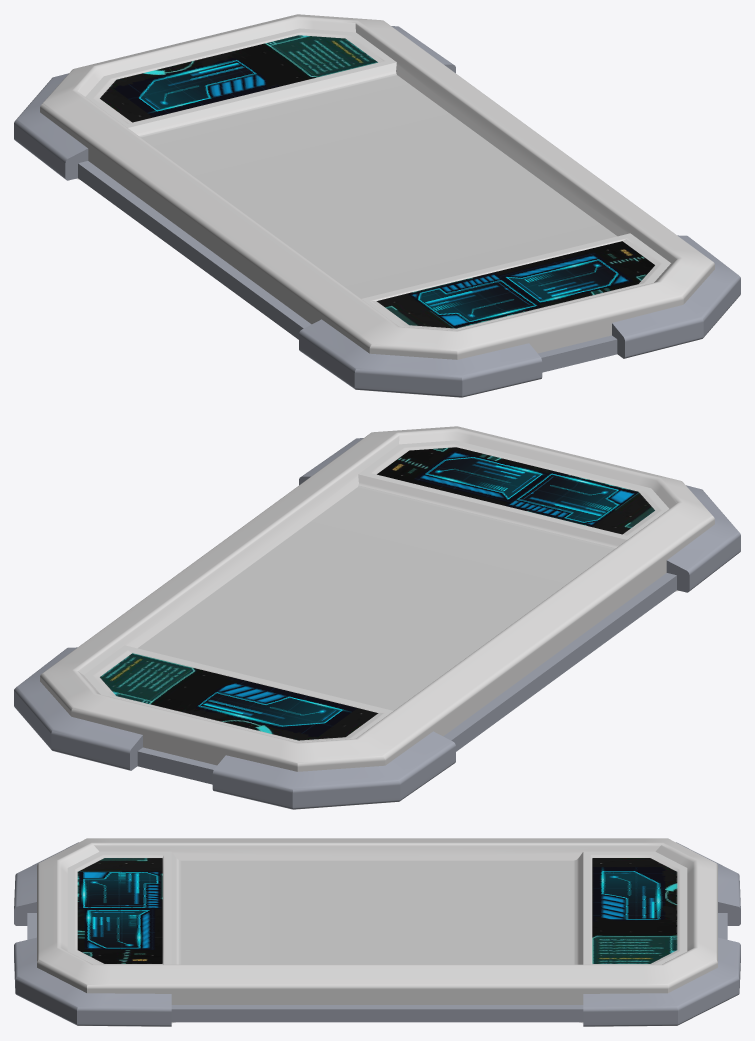
The model's file is datapad.fbx.
The picture shows the model from 3 angles, top to bottom: view 1: azimuth 30°, elevation 25°; view 2: azimuth 150°, elevation 25°; view 3: azimuth 270°, elevation 25°; orthographic projection. The views are drawn at different scales.
Visible parts, largest first — view 1: datapad; view 2: datapad; view 3: datapad.
Part boxes in pixels (bbox=[...]): datapad: bbox=[14, 14, 740, 397]; datapad: bbox=[14, 426, 740, 809]; datapad: bbox=[14, 838, 740, 1026].
Size of the model in its own units: 513 by 56.59 by 939.
